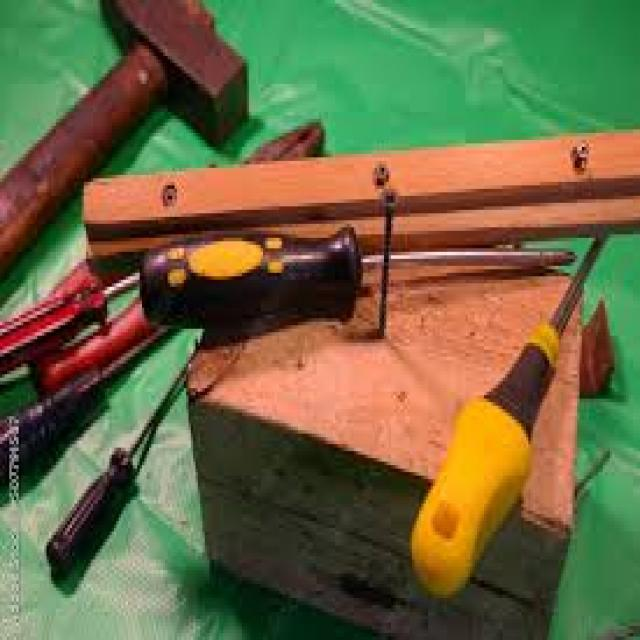screwdriver: (407, 220, 619, 602), (138, 222, 578, 330), (45, 332, 199, 581)
